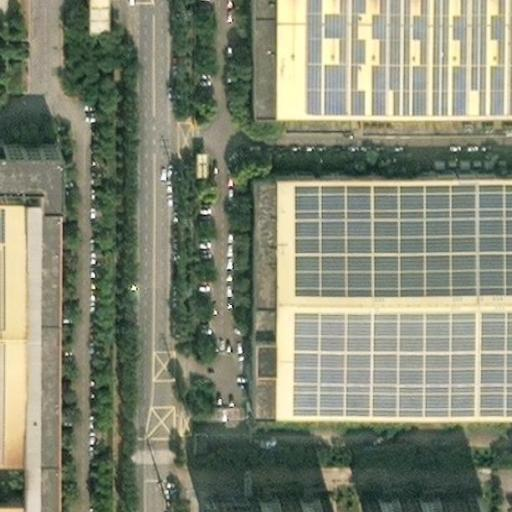building: (231, 165, 512, 399), (14, 175, 47, 512), (252, 483, 321, 512), (417, 484, 479, 512), (362, 484, 417, 512), (200, 483, 252, 512)
